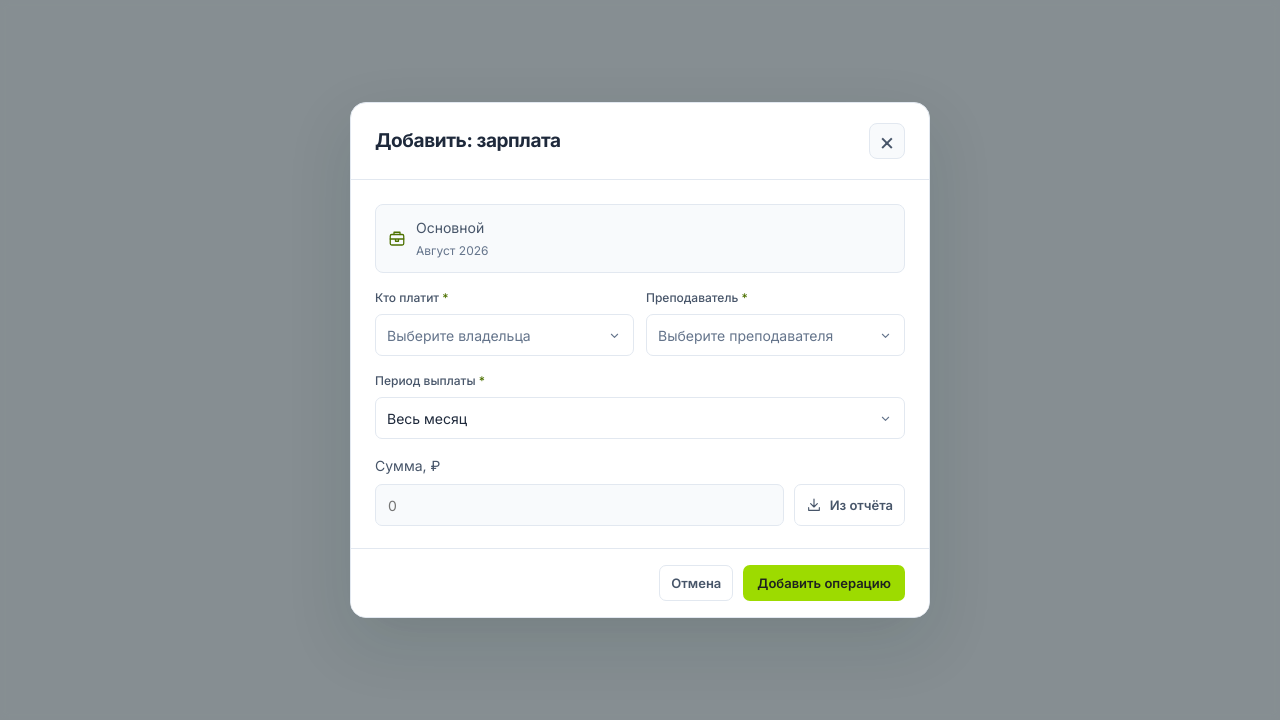
Test case: salary report uses the selected half of the month and preserves kopecks
The width and height of the screenshot is (1280, 720).
Click the button named "Преподаватель" at (776, 335), box [646,314,905,356]
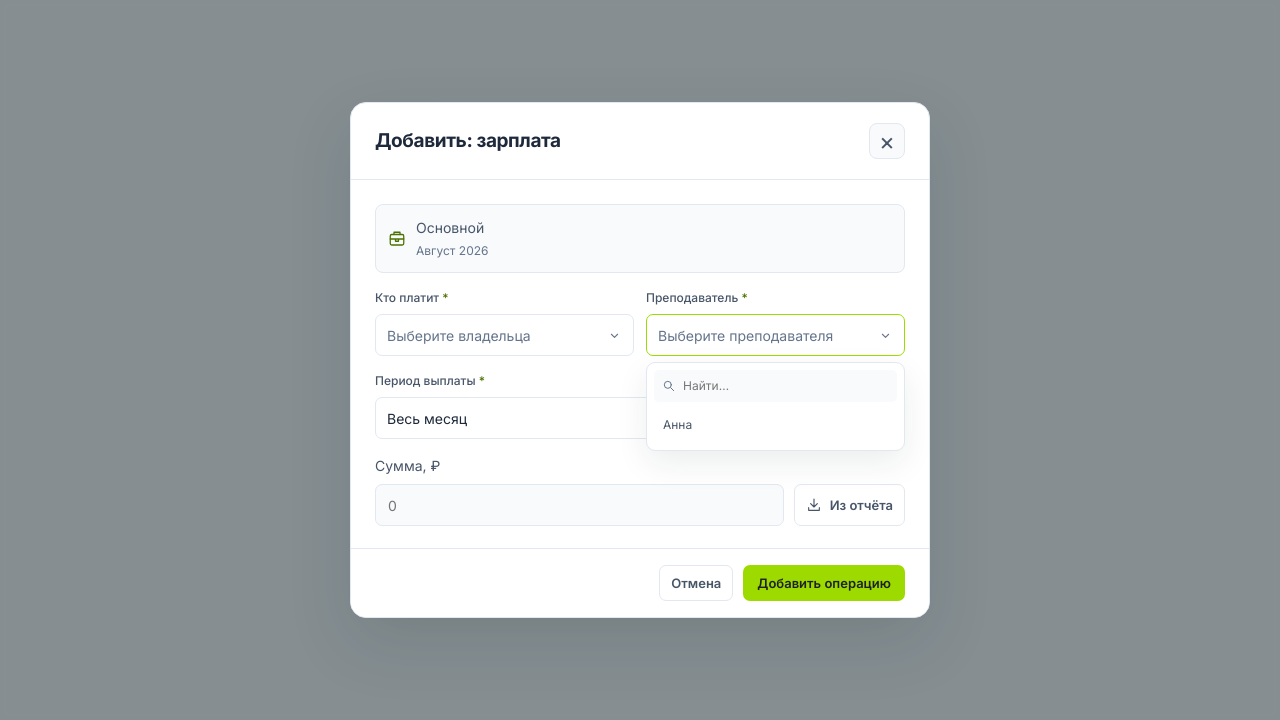
Click the option "Анна" at (776, 425), box [654,407,897,443]
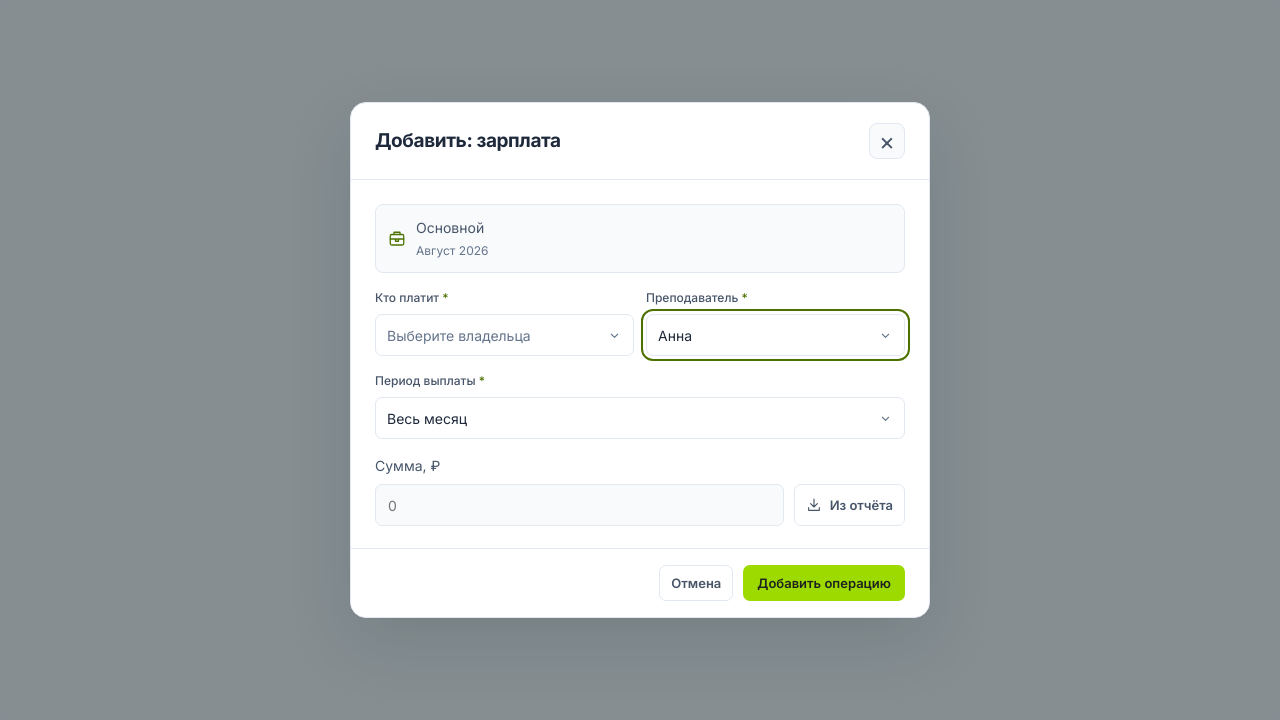
Click the button named "Период выплаты" at (427, 418), box [375,397,905,439]
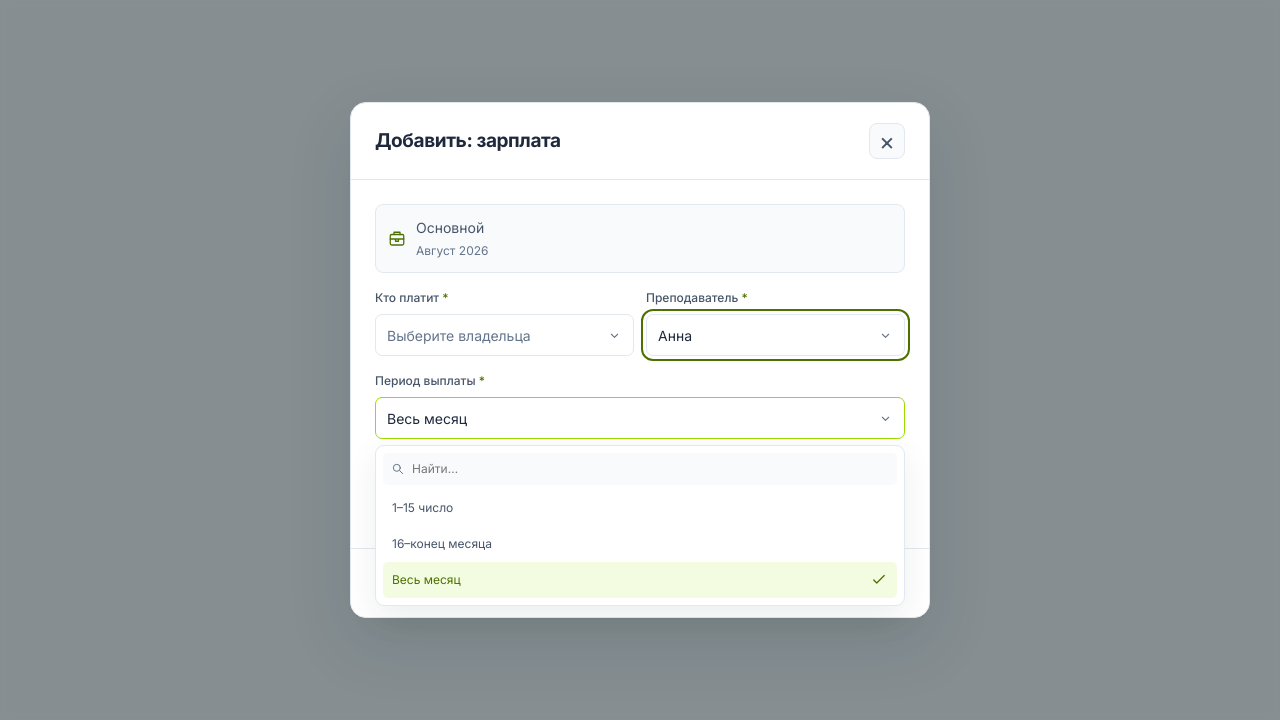
Click the option "16–конец месяца" at (442, 544), box [383,526,897,562]
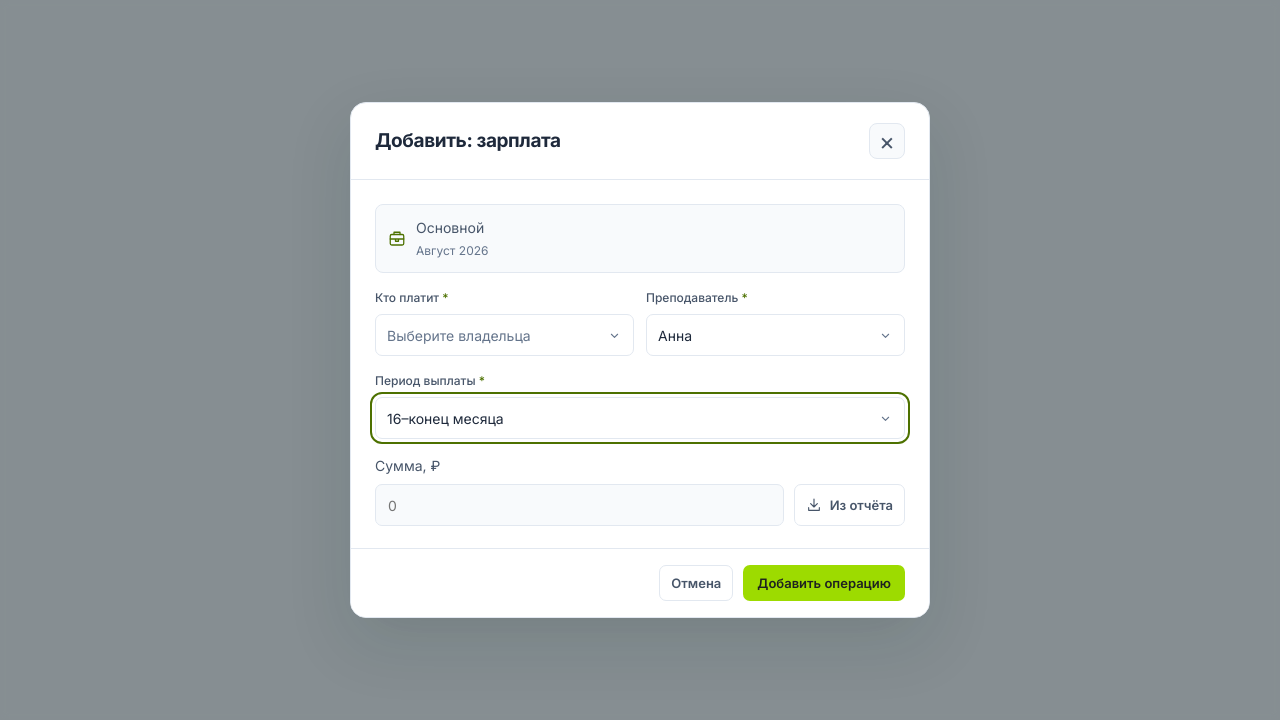
Click the button "Из отчёта" at (849, 505), box [794,484,905,526]
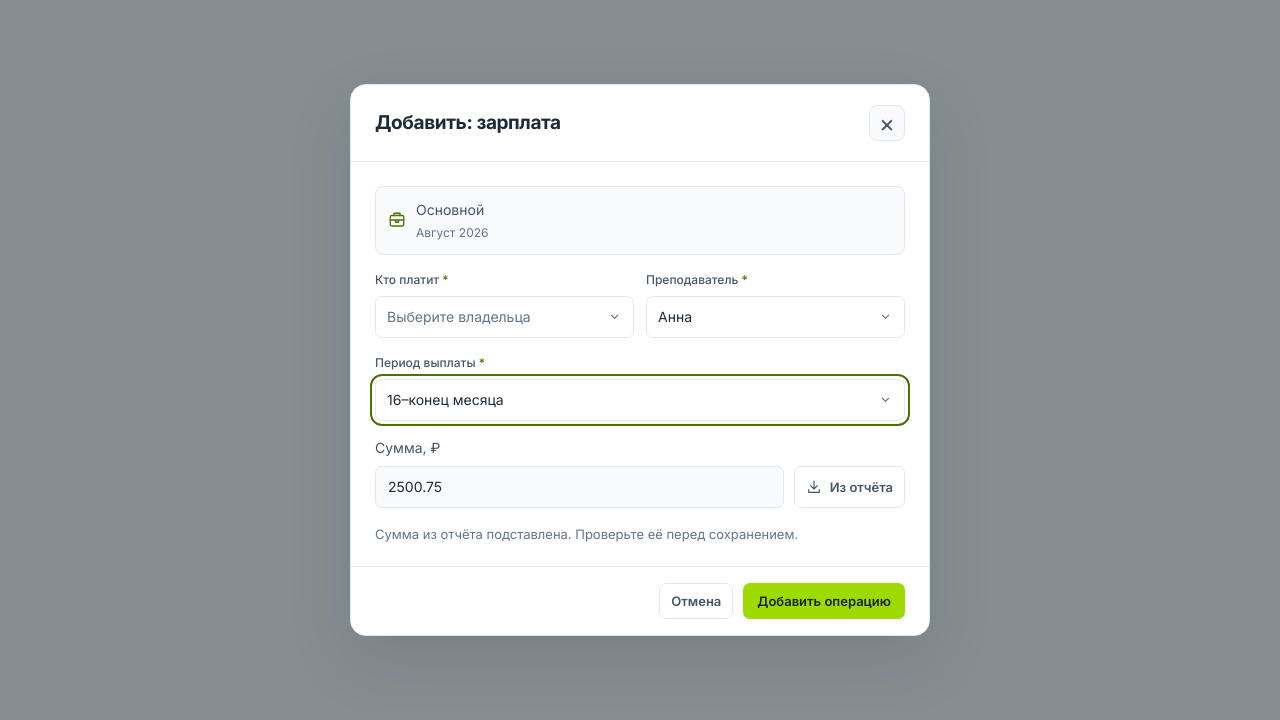
Check: the number field labelled "Сумма, ₽" holds "2500.75", box [375,466,784,508]
